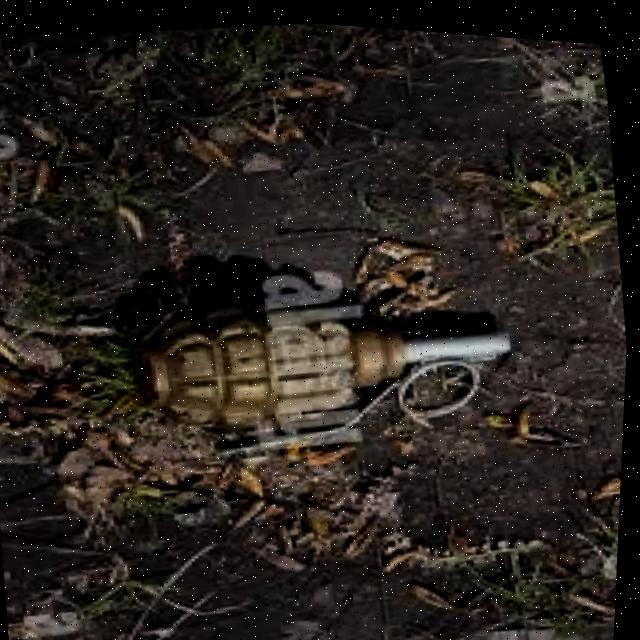grenade: (109, 220, 538, 472)
